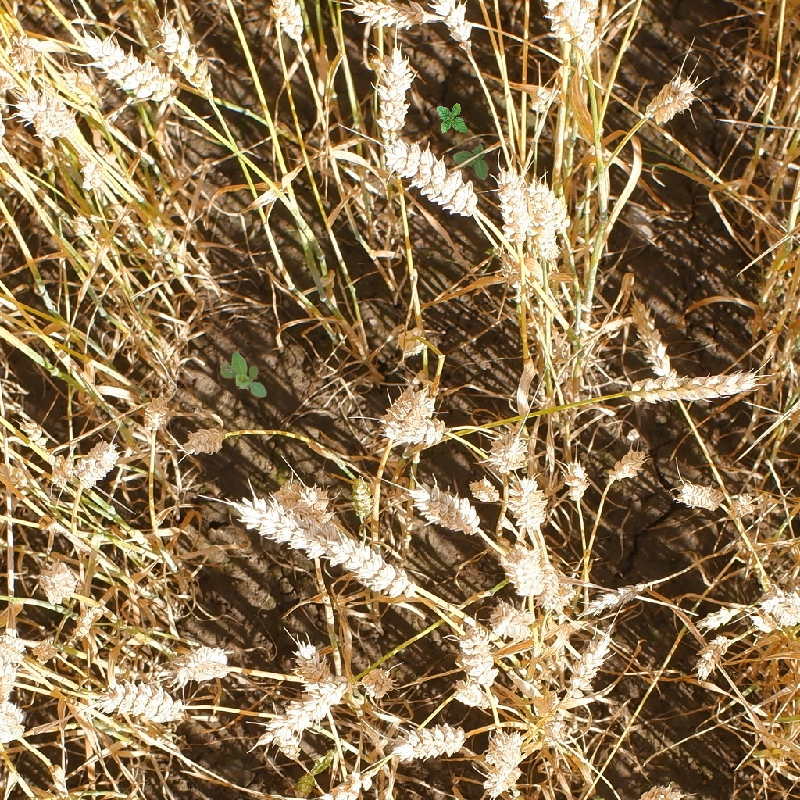spikelet: (378, 132, 482, 222), (72, 27, 179, 111), (256, 672, 352, 754), (322, 530, 424, 607), (229, 489, 322, 560), (626, 363, 762, 411), (142, 218, 222, 297), (153, 13, 221, 104), (90, 674, 189, 727), (404, 476, 485, 537), (526, 1, 603, 65), (367, 44, 418, 138), (387, 716, 469, 766), (632, 296, 680, 380), (525, 175, 571, 262), (14, 84, 78, 145), (379, 384, 439, 448), (479, 724, 529, 799), (638, 72, 702, 129), (491, 163, 533, 248), (564, 629, 615, 697), (412, 1, 479, 50), (67, 438, 123, 495), (294, 642, 343, 706), (454, 627, 502, 690), (172, 640, 234, 688), (506, 471, 552, 535), (502, 541, 550, 601), (260, 1, 315, 48), (343, 1, 418, 35), (482, 427, 534, 476), (751, 582, 800, 634), (279, 479, 334, 525), (54, 66, 105, 115), (688, 630, 733, 683), (671, 474, 727, 516), (1, 622, 30, 702), (486, 604, 539, 647), (37, 560, 82, 608), (604, 444, 649, 489), (447, 674, 498, 711), (557, 454, 592, 506), (390, 322, 434, 362), (346, 473, 381, 522), (180, 426, 230, 458), (1, 695, 30, 749), (138, 400, 173, 435), (733, 490, 760, 520)
weed: (450, 139, 501, 190), (220, 350, 267, 399), (436, 103, 468, 134)
